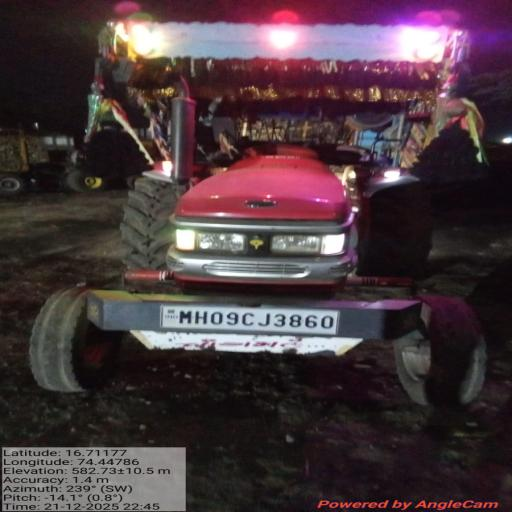number_plate: (161, 305, 339, 334)
